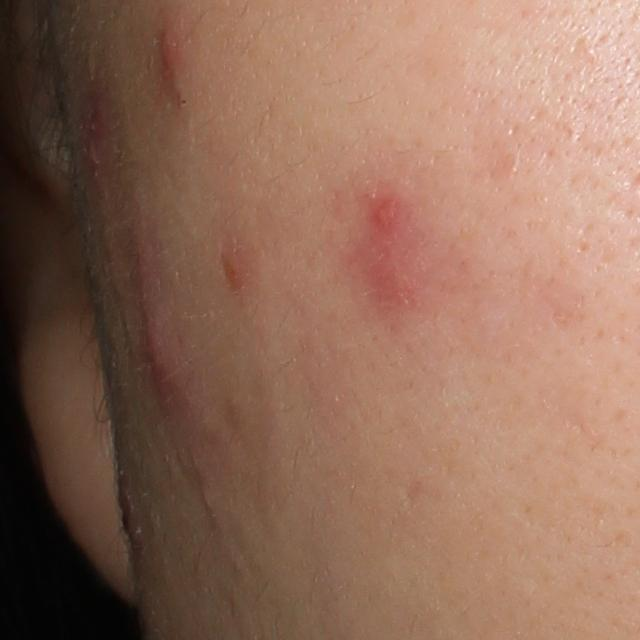papule: (145, 318, 183, 388), (217, 230, 249, 295), (365, 186, 405, 238), (155, 23, 186, 74)
